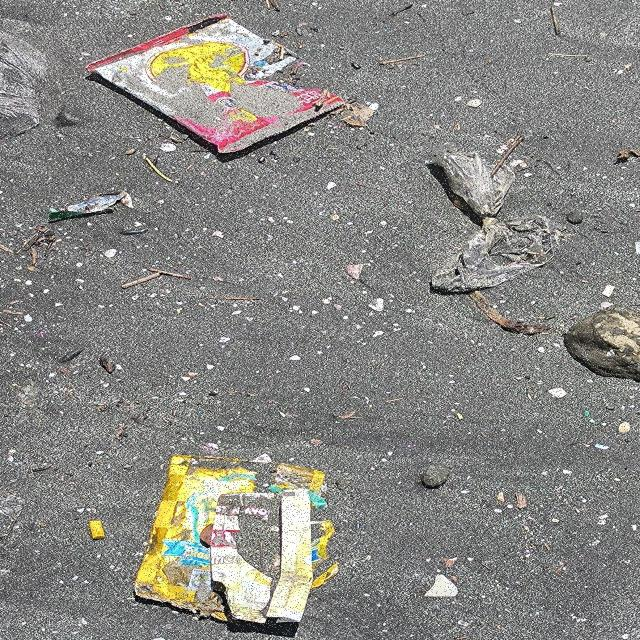plastic_waste: (129, 455, 343, 628), (85, 14, 347, 155)
